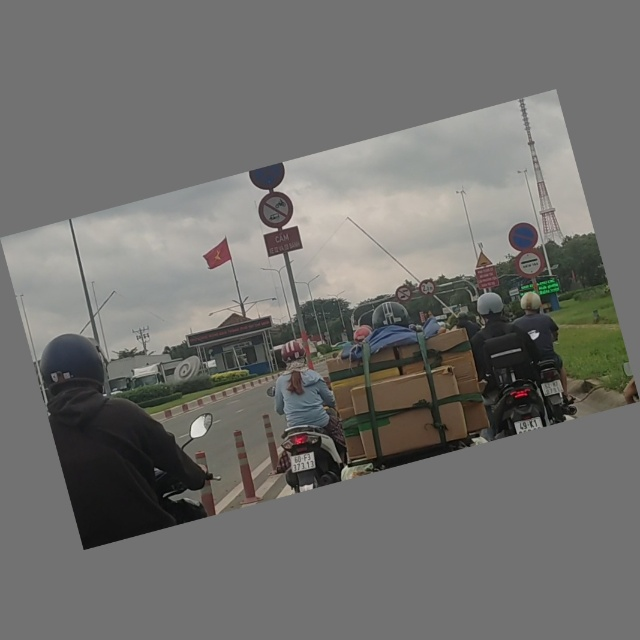P.107: (394, 284, 415, 304)
P.111: (255, 189, 298, 232)
P.117*: (417, 278, 438, 298)
P.129: (514, 248, 549, 282)
P.130: (249, 163, 290, 194)
P.131a: (506, 220, 541, 254)
W.221b: (473, 250, 494, 270)
